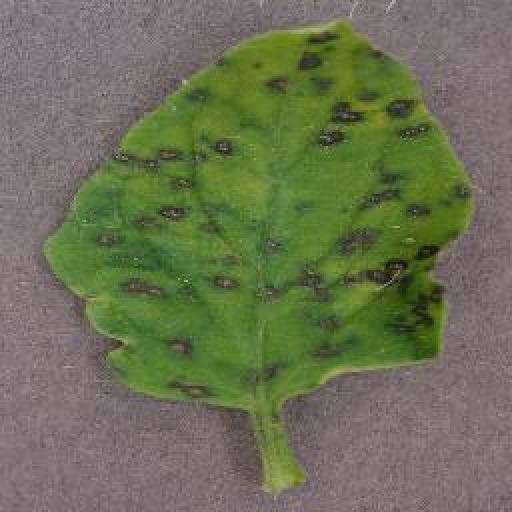Septoria: (43, 18, 471, 410)
